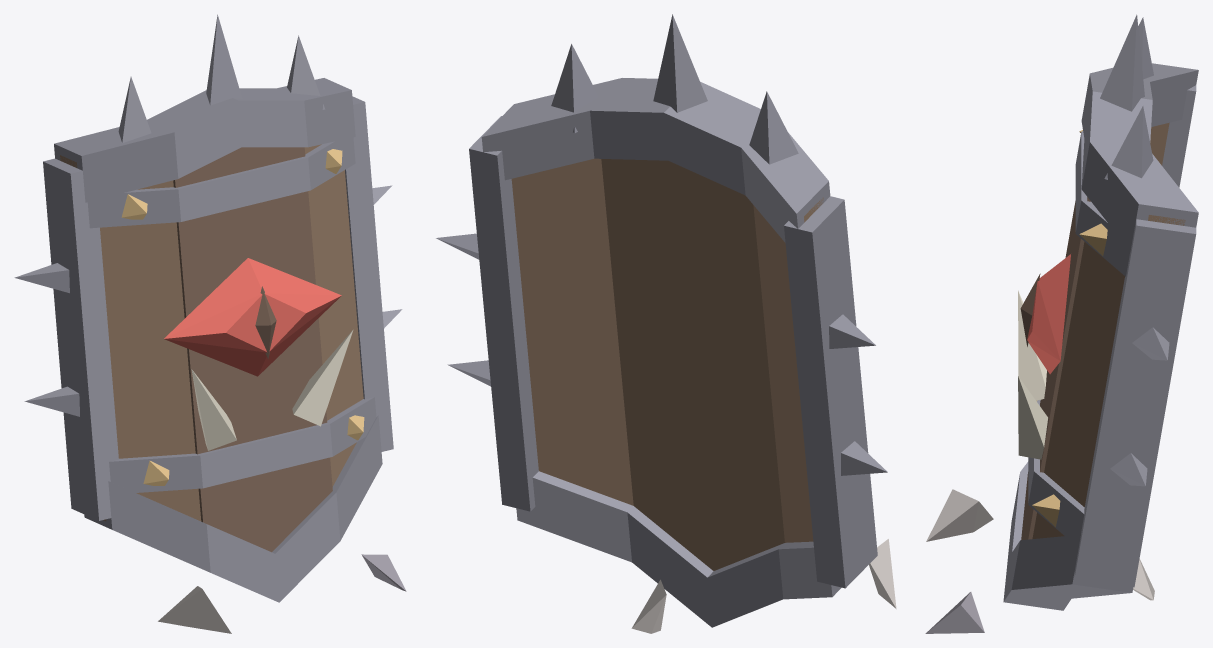
File: prop_ghar_towershield.glb
3 views of the same model, side by side, from view 1: azimuth 30°, elevation 25°; view 2: azimuth 150°, elevation 25°; view 3: azimuth 270°, elevation 25° (orthographic). The views are drawn at different scales.
Parts seen in each view (by area): view 1: prop_ghar_towershield; view 2: prop_ghar_towershield; view 3: prop_ghar_towershield.
Part boxes in pixels (x1,y1,x2,y2): prop_ghar_towershield: (14, 14, 406, 633); prop_ghar_towershield: (436, 14, 896, 633); prop_ghar_towershield: (925, 14, 1198, 633).
Size of the model in its own units: 1.4 by 1.95 by 0.8106.
